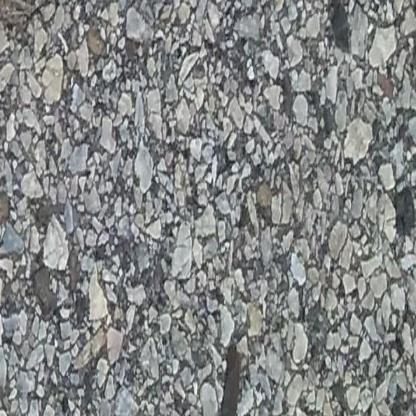Cracks: (0, 0, 43, 45)
